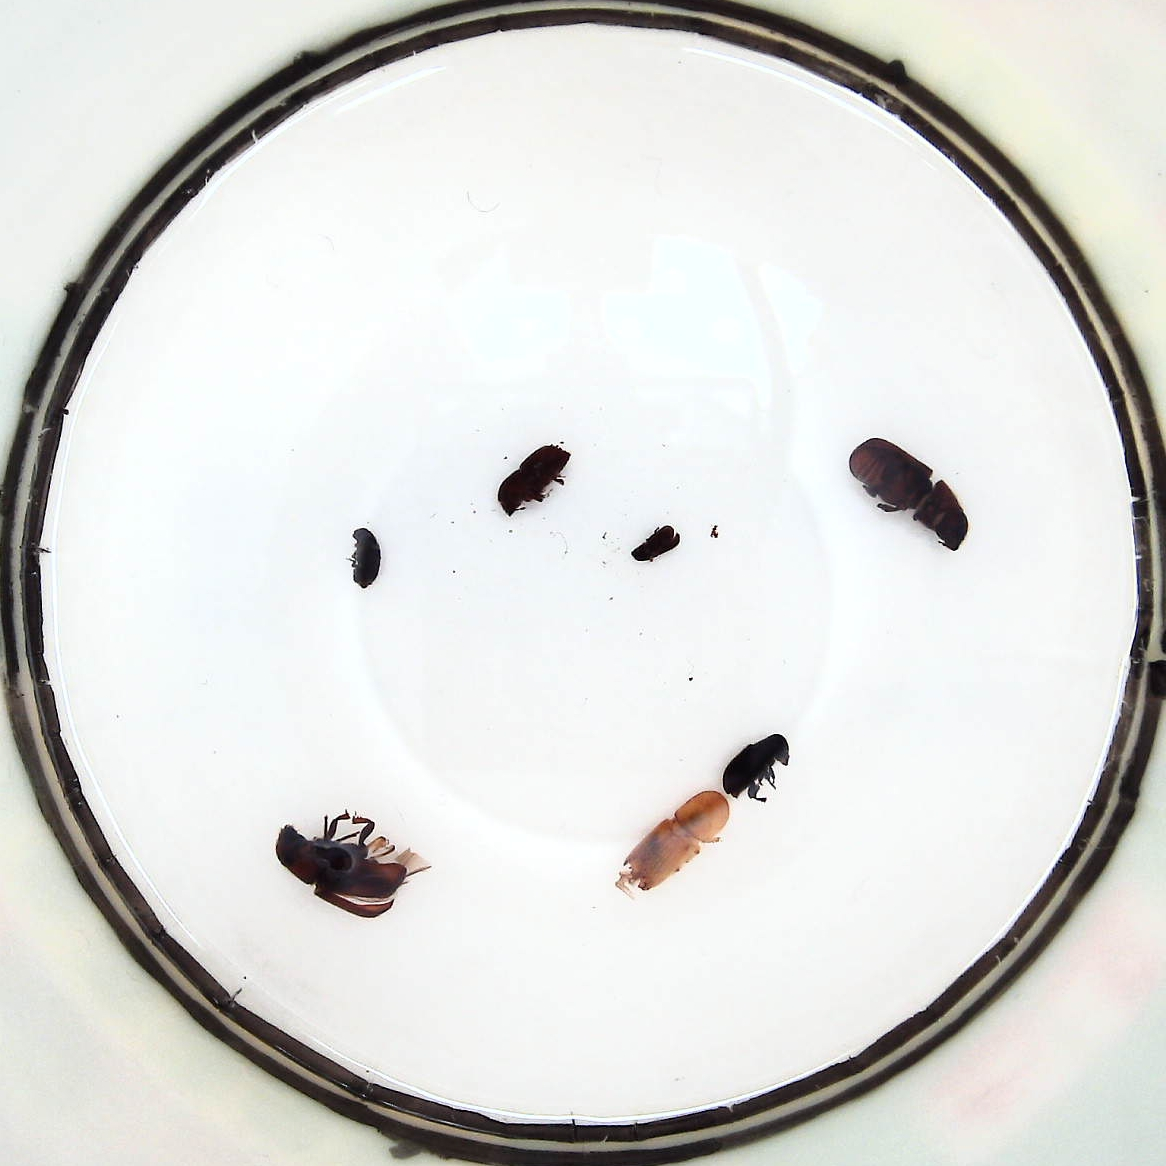Boerner: (623, 792, 729, 891)
Leconte: (275, 809, 408, 919), (848, 437, 967, 551)
acuminatus: (350, 527, 379, 588)
armandi: (722, 732, 789, 795)
coleoptera: (631, 525, 681, 561)
linnaeus: (499, 444, 573, 516)
